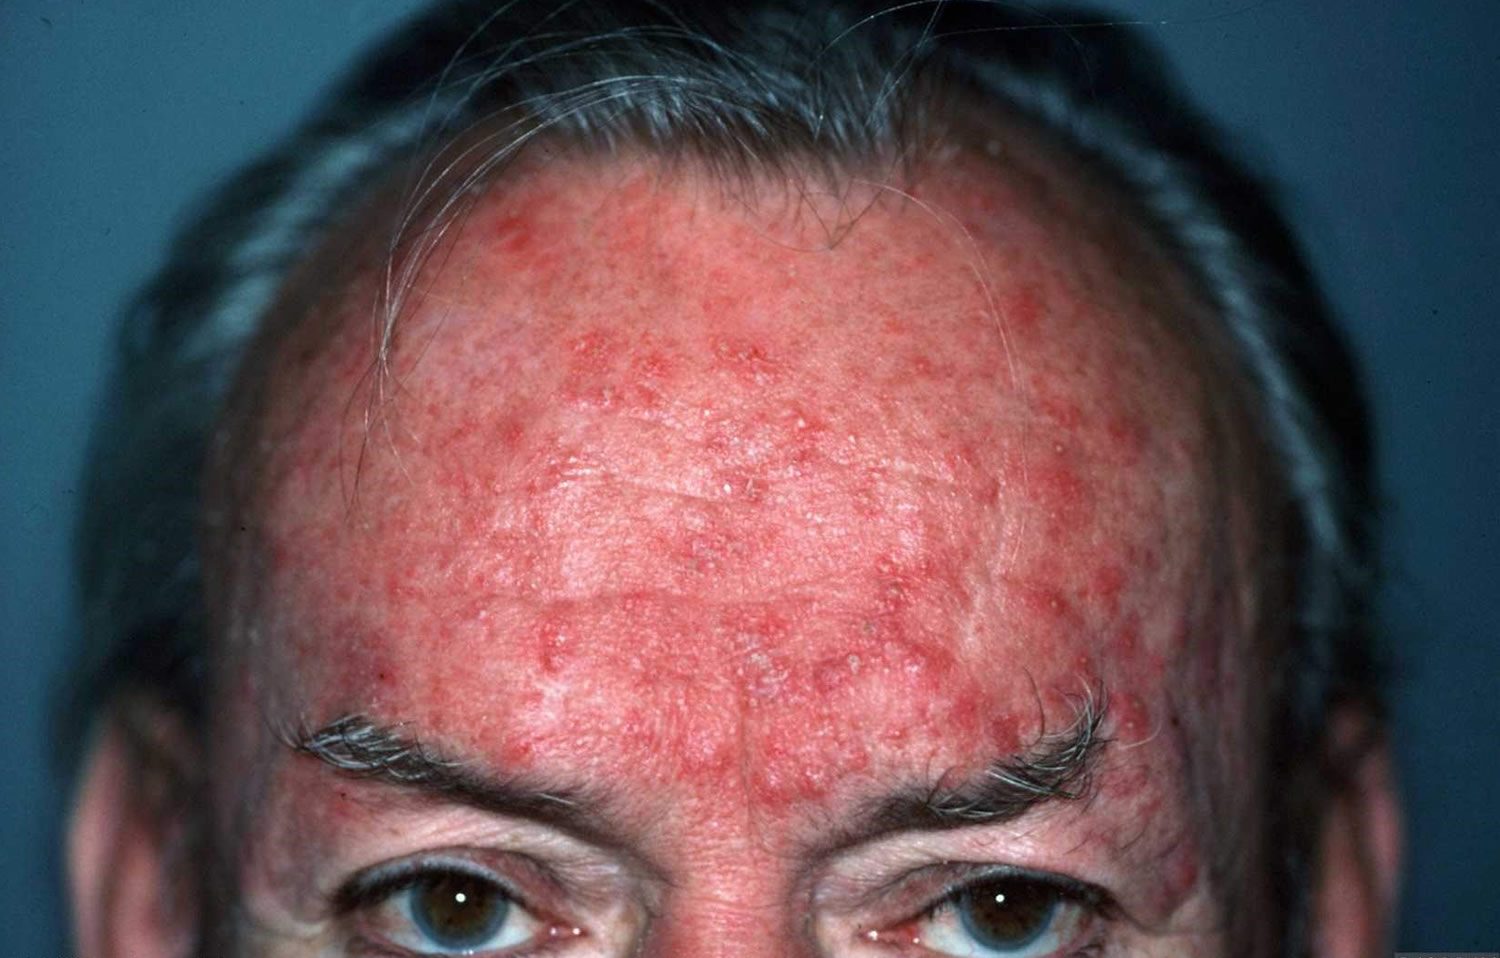Eksim: (279, 173, 1201, 725)
